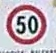limite 50: (5, 4, 45, 44)
